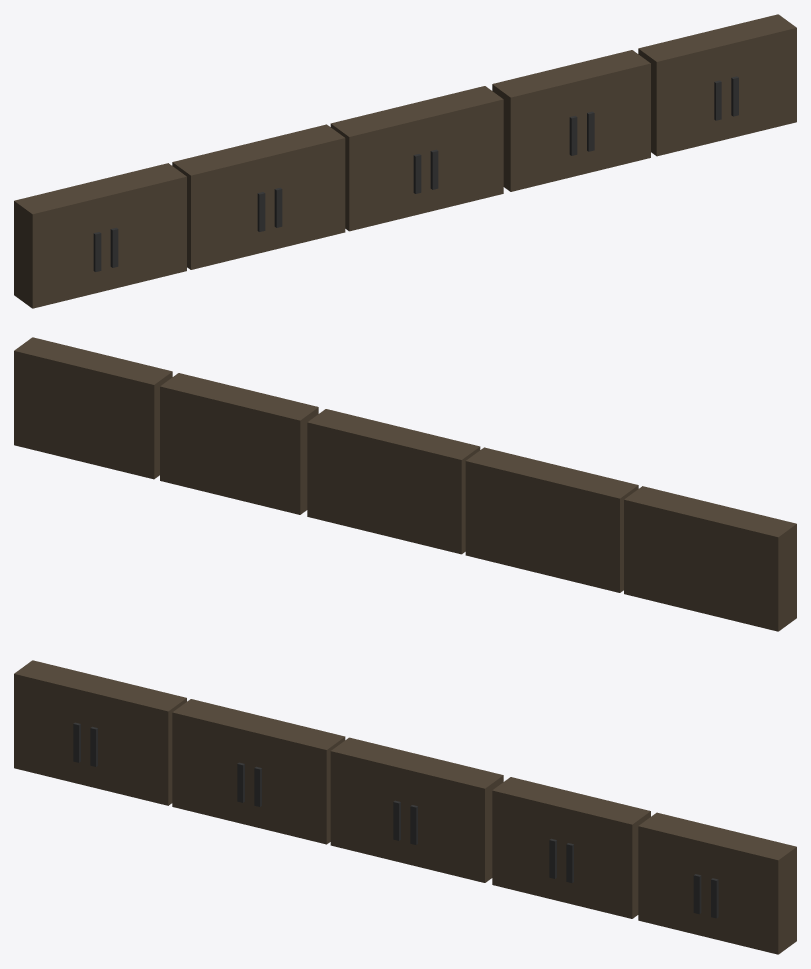
Rendered from Kitchen_Cupboards.fbx.
3 views of the same model, one above another, from view 1: azimuth 30°, elevation 25°; view 2: azimuth 150°, elevation 25°; view 3: azimuth 330°, elevation 25° (orthographic).
Visible parts, largest first — view 1: polySurface13, polySurface15, polySurface9, polySurface12, polySurface8; view 2: polySurface13, polySurface15, polySurface9, polySurface12, polySurface8; view 3: polySurface15, polySurface13, polySurface9, polySurface8, polySurface12.
Boxes of the visible parts, x1,y1,x2,y2 form: polySurface13: (14,163,186,308); polySurface15: (330,86,503,231); polySurface9: (172,124,345,269); polySurface12: (492,50,650,191); polySurface8: (638,14,796,156); polySurface13: (624,486,796,631); polySurface15: (307,409,480,554); polySurface9: (465,447,638,592); polySurface12: (160,373,318,514); polySurface8: (14,337,172,479); polySurface15: (330,737,503,882); polySurface13: (14,660,186,805); polySurface9: (172,699,345,844); polySurface8: (638,812,796,954); polySurface12: (492,777,650,918).
Bounding box in the file's own units: 10.43 × 1.23 × 0.4828.
